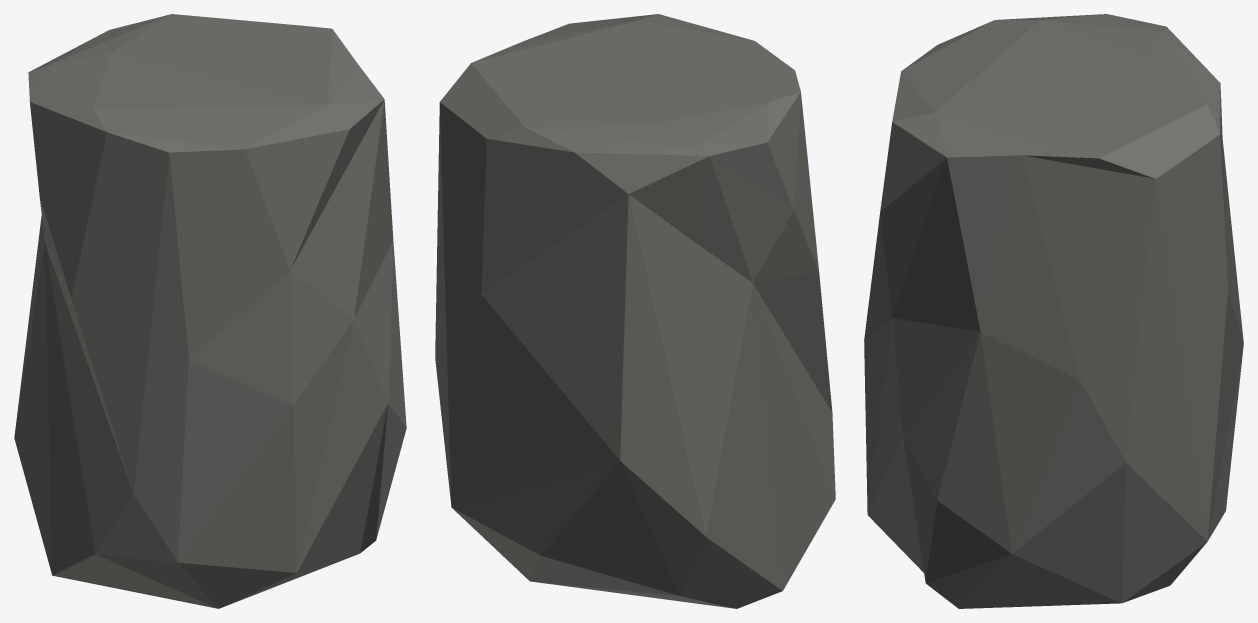
File: SM_Env_Cave_SteppingStone_02.fbx
The picture shows the model from 3 angles, left to right: view 1: azimuth 30°, elevation 25°; view 2: azimuth 150°, elevation 25°; view 3: azimuth 270°, elevation 25°; orthographic projection.
Visible parts, largest first — view 1: SM_Env_Cave_SteppingStone_02; view 2: SM_Env_Cave_SteppingStone_02; view 3: SM_Env_Cave_SteppingStone_02.
Boxes of the visible parts, x1,y1,x2,y2 form: SM_Env_Cave_SteppingStone_02: (14, 14, 406, 608); SM_Env_Cave_SteppingStone_02: (435, 14, 835, 608); SM_Env_Cave_SteppingStone_02: (864, 14, 1243, 608).
Size of the model in its own units: 127 by 178 by 125.
